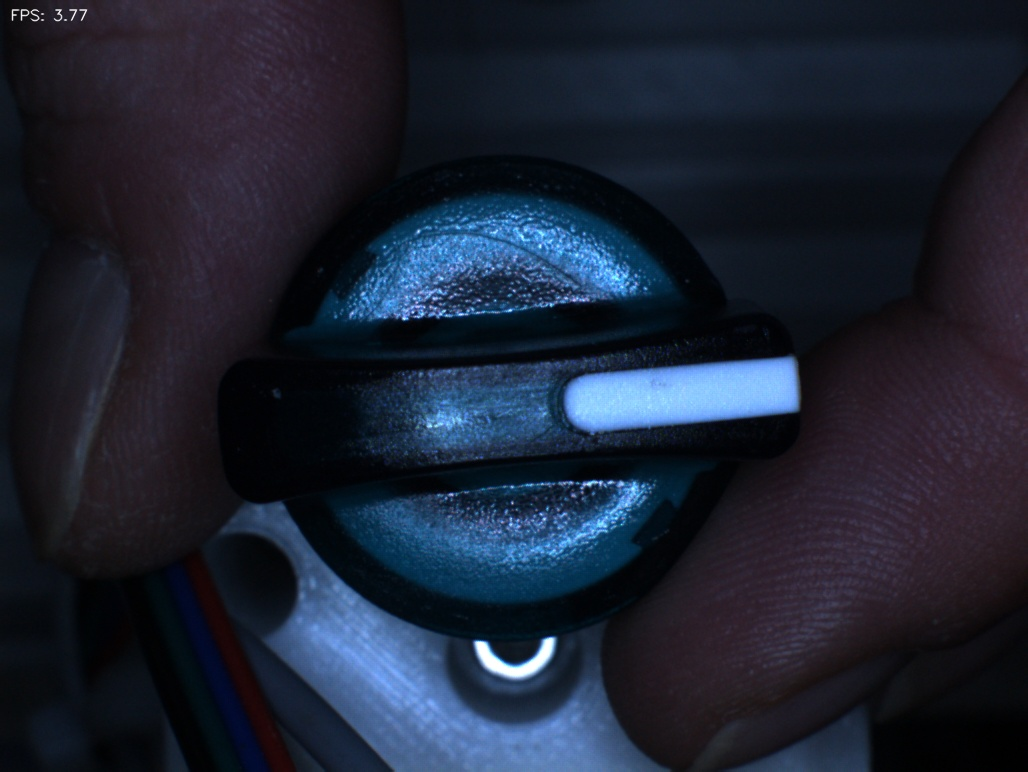PointNoir: (626, 346, 688, 415)
